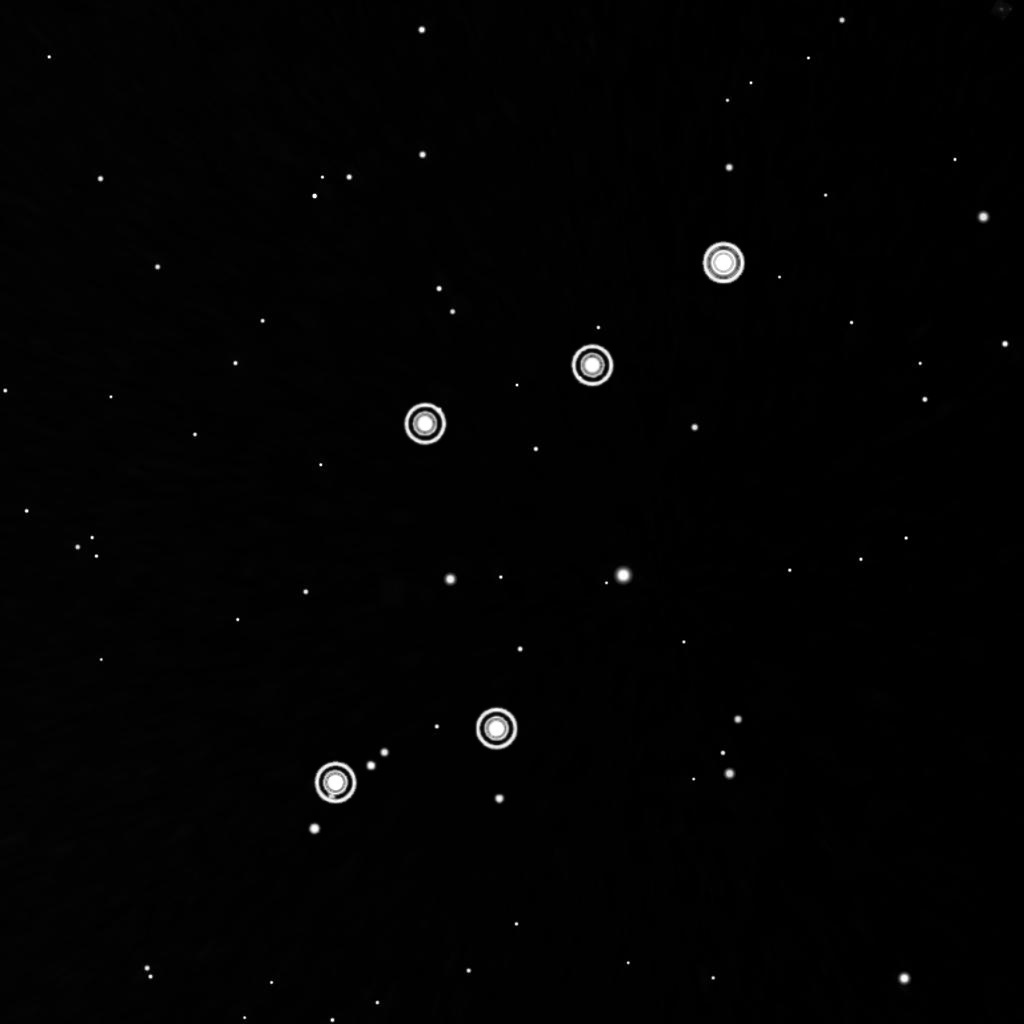lyra: (303, 230, 755, 818)
